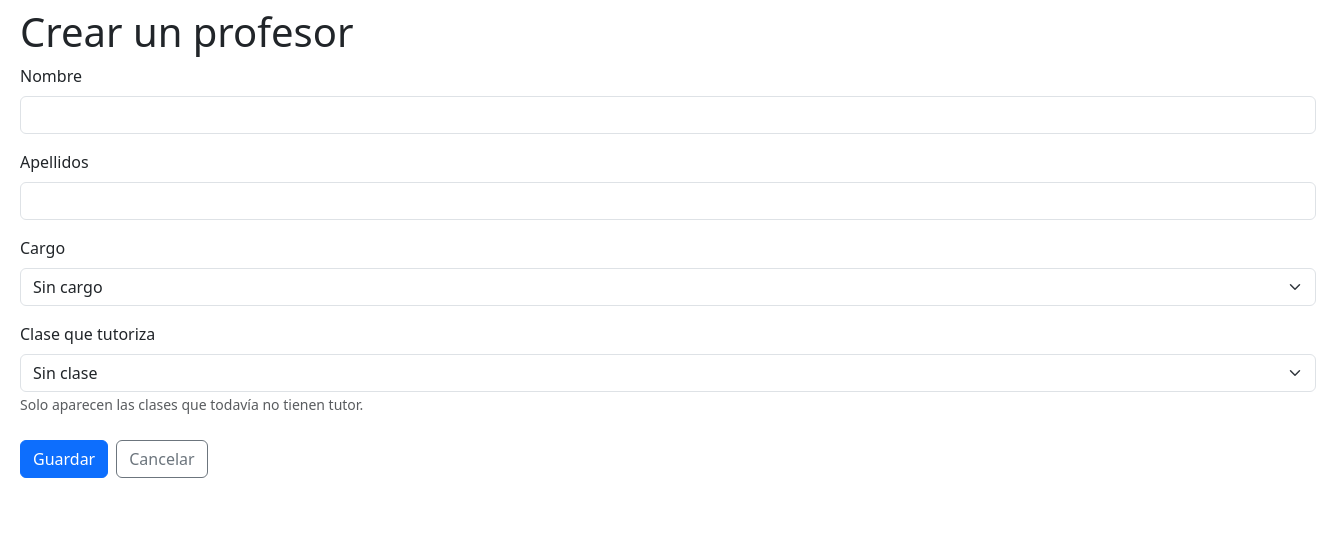
Test case: CreateProfessorPage › validation before sending › shows the error of each invalid field, focuses the first one and sends nothing
This screenshot has width=1337, height=545.
In the field labelled "Nombre": (668, 115) left=20, top=96, right=1316, bottom=134, type "<b>"
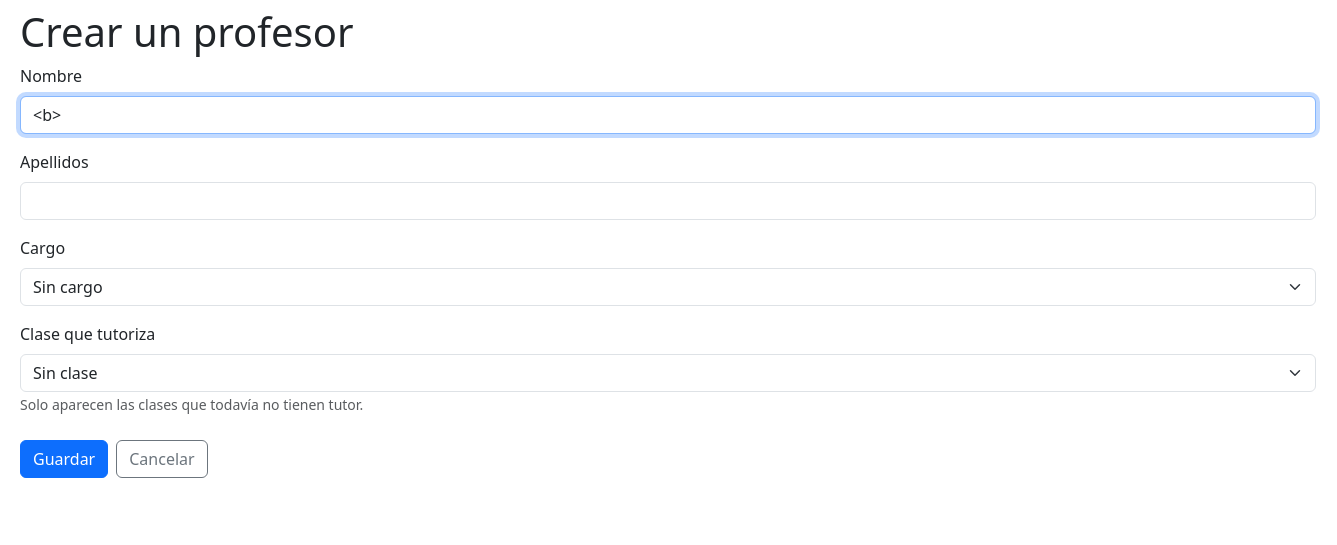
Click the button "Guardar": (64, 459) left=20, top=440, right=108, bottom=478
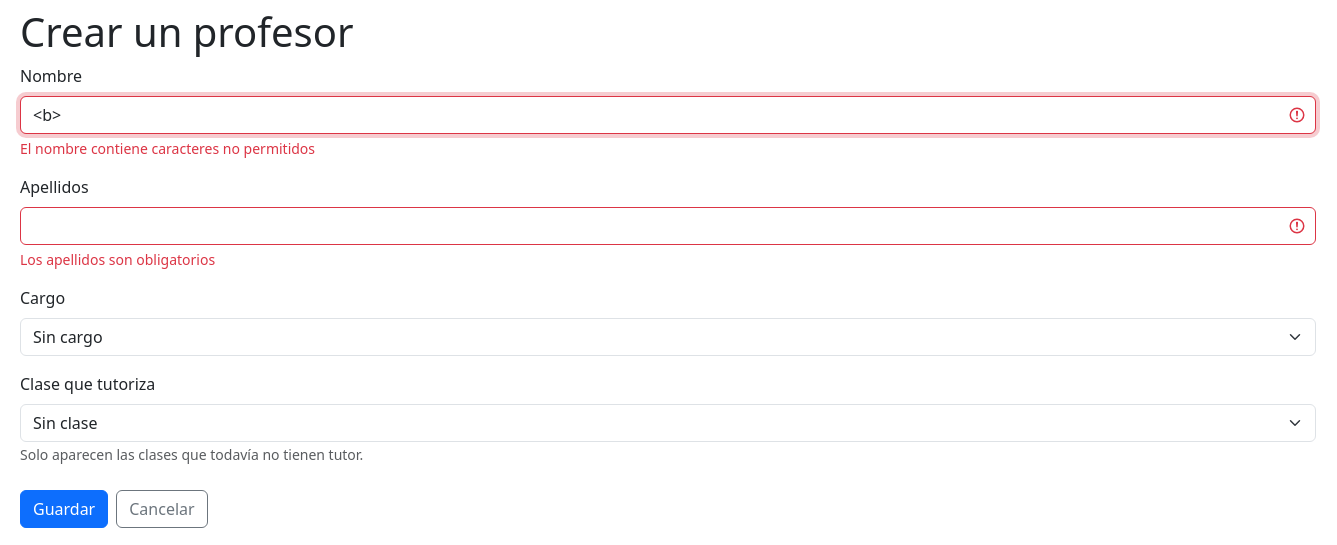
Now the text "El nombre contiene caracteres no permitidos" is shown, box left=20, top=139, right=315, bottom=158
Now the text "Los apellidos son obligatorios" is shown, box left=20, top=250, right=215, bottom=269
